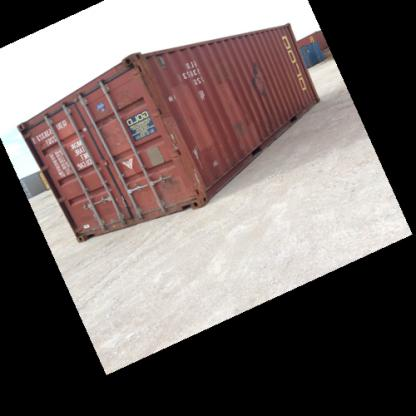Damage: (186, 141, 228, 186), (245, 57, 272, 99), (152, 168, 183, 192), (232, 115, 260, 136), (190, 81, 210, 104), (151, 52, 174, 72), (78, 221, 92, 232)
